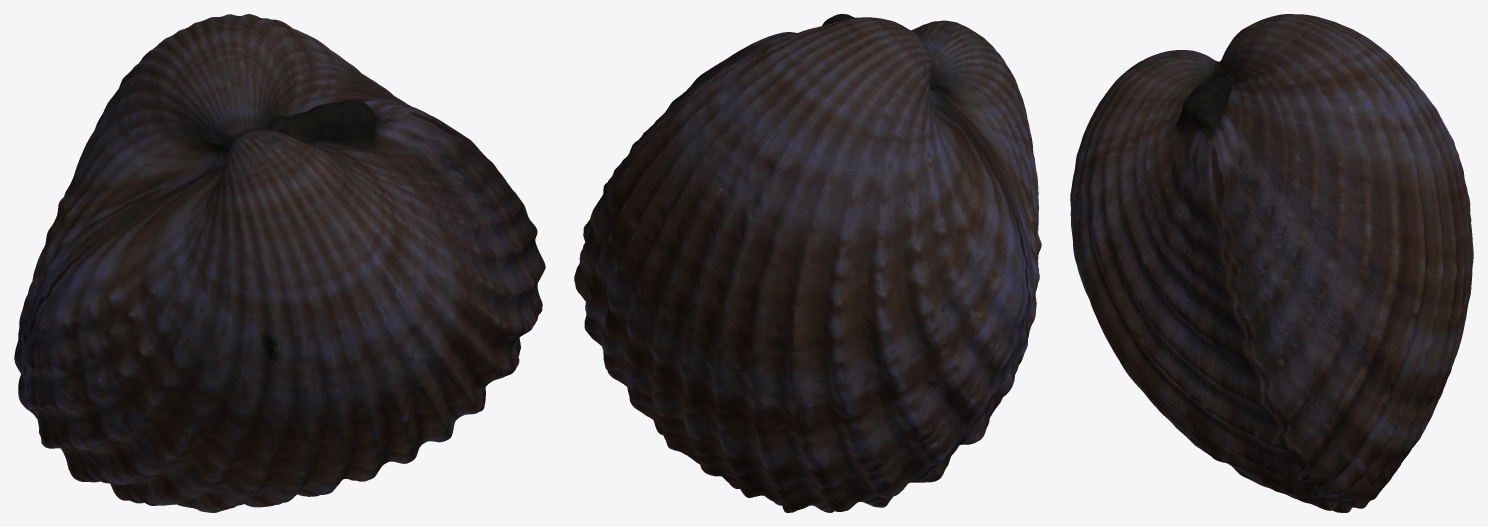
Rendered from MZUR3D-051.glb.
The picture shows the model from 3 angles, left to right: view 1: azimuth 30°, elevation 25°; view 2: azimuth 150°, elevation 25°; view 3: azimuth 270°, elevation 25°; orthographic projection. The views are drawn at different scales.
Parts seen in each view (by area): view 1: MZUR3D-051; view 2: MZUR3D-051; view 3: MZUR3D-051.
Part boxes in pixels (bbox=[...]): MZUR3D-051: bbox=[14, 14, 545, 512]; MZUR3D-051: bbox=[574, 14, 1041, 512]; MZUR3D-051: bbox=[1070, 14, 1473, 512].
Size of the model in its own units: 0.0759 by 0.0737 by 0.061.
Materials: 1 (1 with a texture image).
